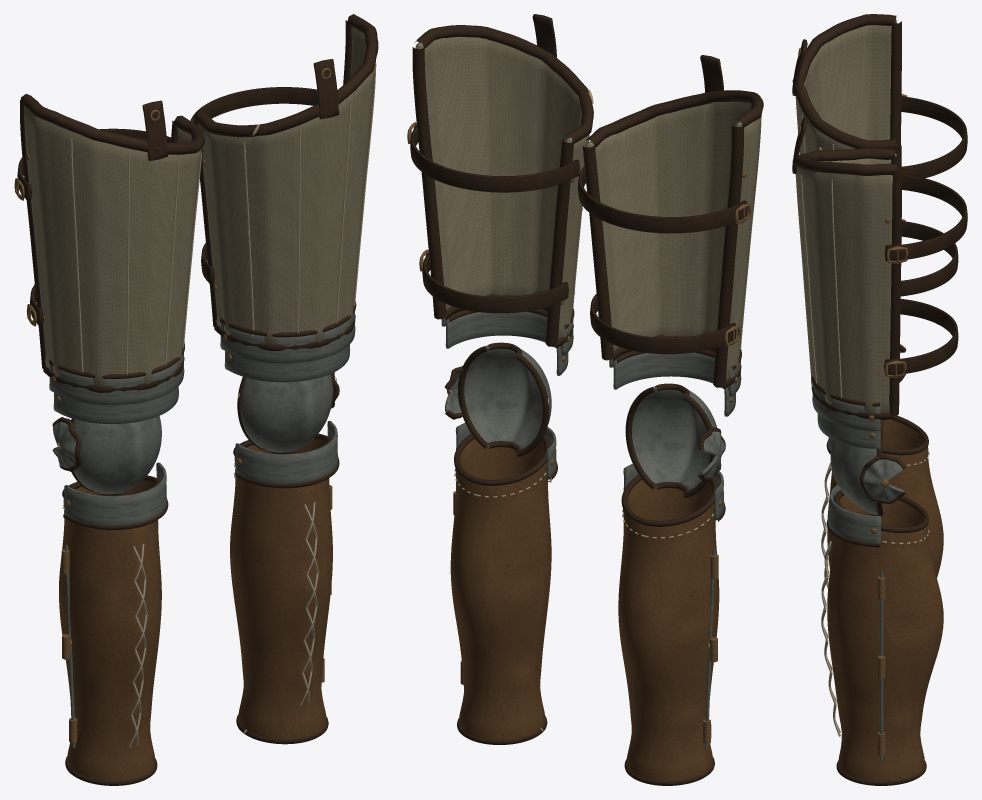
3 renders of one model, left to right at view 1: azimuth 30°, elevation 25°; view 2: azimuth 150°, elevation 25°; view 3: azimuth 270°, elevation 25°, orthographic. The views are drawn at different scales.
Visible parts, largest first — view 1: quilted linen lining, tanned leather, weathered plate, oiled strap leather, waxed linen thread, aged alloy edge; view 2: quilted linen lining, tanned leather, oiled strap leather, weathered plate, aged alloy edge, waxed linen thread; view 3: quilted linen lining, tanned leather, oiled strap leather, weathered plate, waxed linen thread, aged alloy edge.
Boxes of the visible parts, <box> form: quilted linen lining: <box>24,26,375,386</box>; tanned leather: <box>59,439,332,780</box>; weathered plate: <box>49,312,355,747</box>; oiled strap leather: <box>17,14,378,785</box>; waxed linen thread: <box>62,64,376,747</box>; aged alloy edge: <box>14,68,336,743</box>; quilted linen lining: <box>415,36,761,380</box>; tanned leather: <box>450,439,719,780</box>; oiled strap leather: <box>410,14,763,785</box>; weathered plate: <box>441,311,741,748</box>; aged alloy edge: <box>407,122,750,743</box>; waxed linen thread: <box>454,117,761,538</box>; quilted linen lining: <box>795,19,896,414</box>; tanned leather: <box>827,419,943,781</box>; oiled strap leather: <box>792,14,967,785</box>; weathered plate: <box>812,351,904,759</box>; waxed linen thread: <box>800,113,929,736</box>; aged alloy edge: <box>798,48,908,755</box>.
Bounding box in the file's own units: 0.4219 × 0.8149 × 0.2001.
8 materials, 6 textured.
